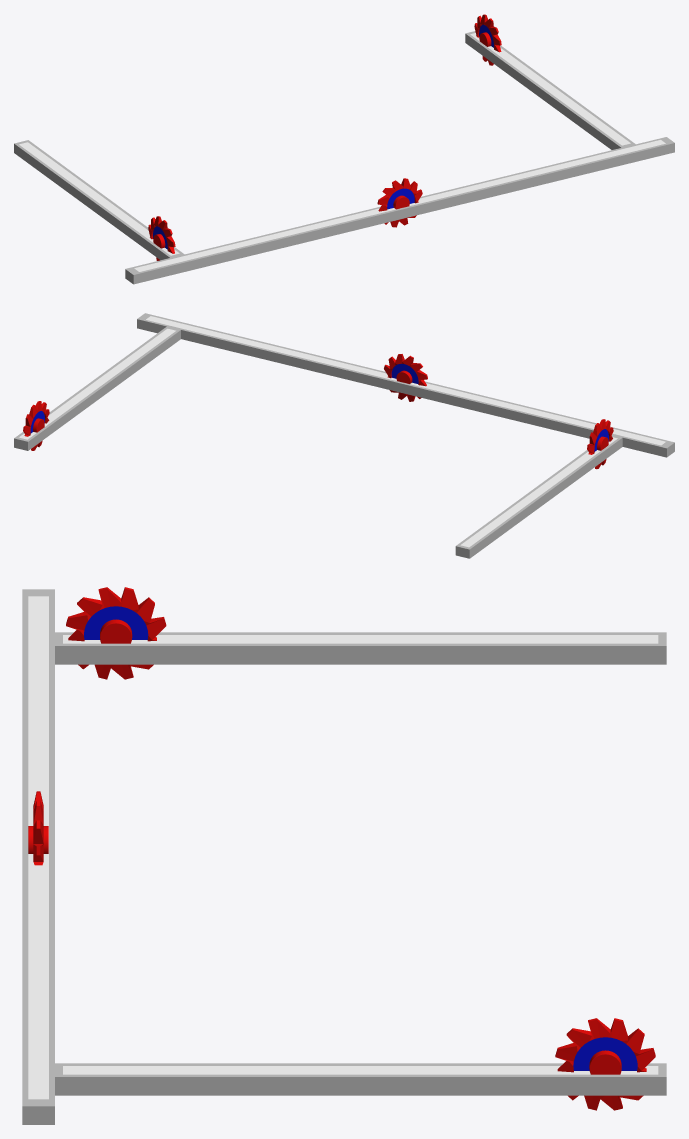
The model's file is 3Saw.fbx.
The picture shows the model from 3 angles, top to bottom: view 1: azimuth 30°, elevation 25°; view 2: azimuth 150°, elevation 25°; view 3: azimuth 270°, elevation 25°; orthographic projection. The views are drawn at different scales.
Parts seen in each view (by area): view 1: Cube.007, Cube.009, Cube.008, Cylinder.018, Cylinder.020, Cylinder.019; view 2: Cube.007, Cube.008, Cube.009, Cylinder.018, Cylinder.020, Cylinder.019; view 3: Cube.009, Cube.008, Cube.007, Cylinder.020, Cylinder.019, Cylinder.018.
Boxes of the visible parts, x1=… form: Cube.007: x1=125, y1=137, x2=674, y2=284; Cube.009: x1=465, y1=31, x2=635, y2=149; Cube.008: x1=14, y1=140, x2=184, y2=260; Cylinder.018: x1=377, y1=178, x2=422, y2=227; Cylinder.020: x1=474, y1=14, x2=501, y2=65; Cylinder.019: x1=148, y1=216, x2=175, y2=260; Cube.007: x1=137, y1=313, x2=674, y2=457; Cube.008: x1=455, y1=435, x2=622, y2=558; Cube.009: x1=14, y1=326, x2=180, y2=450; Cylinder.018: x1=384, y1=354, x2=427, y2=401; Cylinder.020: x1=23, y1=401, x2=49, y2=450; Cylinder.019: x1=587, y1=419, x2=613, y2=469; Cube.009: x1=55, y1=1063, x2=666, y2=1095; Cube.008: x1=55, y1=632, x2=666, y2=664; Cube.007: x1=22, y1=589, x2=54, y2=1124; Cylinder.020: x1=555, y1=1018, x2=655, y2=1110; Cylinder.019: x1=66, y1=587, x2=166, y2=679; Cylinder.018: x1=28, y1=791, x2=48, y2=865.
Size of the model in its own units: 12 by 0.9848 by 6.32.
